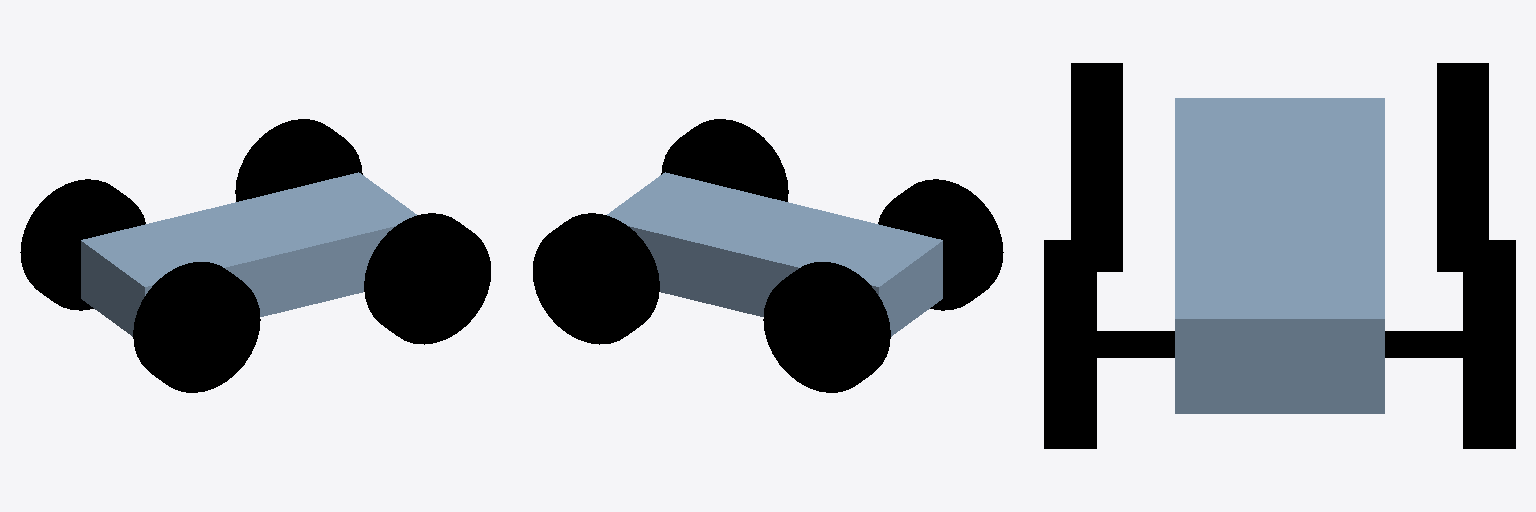
URDF robot description (simplecar):
<?xml version="1.0"?> 
<robot name="simplecar">
    <!-- Colors --> 
    <material name="black"> 
        <color rgba="0 0 0 1"/>
    </material>
    <material name="blue"> 
        <color rgba="0.6 0.7 0.8 1"/>
    </material>


    <!-- Base Frame of Car --> 
    <link name="base_link">
        <visual> 
            <geometry> 
                <box size="0.5 0.2 0.1"/>
            </geometry>
            <material name="blue"/>
        </visual>
        <inertial> 
            <mass value="6"/>
            <inertia ixx="0.2" ixy="0" ixz="0" iyy="0.2" iyz="0.0" izz="0.2"/>
        </inertial> 
    </link> 


    <!-- Left Front Wheel -->
    <link name="left_front_wheel">
        <visual> 
            <geometry> 
                <cylinder length="0.05" radius="0.1"/>
            </geometry>
            <origin rpy="1.57075 1.57075 0"/>
            <material name="black"/>
        </visual>
        <collision> 
             <geometry> 
                <cylinder length="0.05" radius="0.1"/>
            </geometry>
            <origin rpy="1.57075 1.57075 0"/>
        </collision> 
        <inertial> 
            <origin rpy="1.57075 1.57075 0"/>
            <mass value="0.3"/>
            <inertia ixx="0.4" ixy="0" ixz="0" iyy="0.4" iyz="0.0" izz="0.2"/>
        </inertial> 
    </link> 
    <joint name="left_hinge_to_left_front_wheel" type="continuous">
        <parent link="left_hinge"/>
        <child link="left_front_wheel"/> 
        <axis xyz="0 1 0"/>
        <origin xyz="0 0.2 0"/>
    </joint>
    <!-- Left Front Wheel - Hinge -->
    <link name="left_hinge">
        <visual> 
            <geometry> 
                <box size="0.20 0.02 0.02"/>
            </geometry>
            <origin xyz="0 0.1 0 " rpy="0 0 1.57075"/>
            <material name="black"/>
        </visual>
        <inertial> 
            <origin rpy="0 0 1.57075"/>
            <mass value="0.01"/>
            <inertia ixx="5E-6" ixy="0" ixz="0" iyy="5E-6" iyz="0" izz="5E-6"/>
        </inertial> 
    </link> 
    <joint name="base_to_left_hinge" type="revolute">
        <parent link="base_link"/>
        <child link="left_hinge"/> 
        <axis xyz="0 0 1"/>
        <origin xyz="0.2 0.0 0"/>
        <limit effort="100" lower="-0.5" upper="0.5" velocity="100"/>
    </joint>
    <!-- Right Front Wheel -->
    <link name="right_front_wheel">
        <visual> 
            <geometry> 
                <cylinder length="0.05" radius="0.1"/>
            </geometry>
            <origin rpy="-1.57075 -1.57075 0"/>
            <material name="black"/>
        </visual>
        <collision> 
             <geometry> 
                <cylinder length="0.05" radius="0.1"/>
            </geometry>
            <origin rpy="-1.57075 -1.57075 0"/>
        </collision> 
        <inertial> 
            <origin rpy="-1.57075 -1.57075 0"/>
            <mass value="0.3"/>
            <inertia ixx="0.4" ixy="0" ixz="0" iyy="0.4" iyz="0.0" izz="0.2"/>
        </inertial> 
    </link> 
    <joint name="right_hinge_to_right_front_wheel" type="continuous">
        <parent link="right_hinge"/>
        <child link="right_front_wheel"/> 
        <axis xyz="0 1 0"/>
        <origin xyz="0 -0.2 0"/>
    </joint>
    <!-- Right Front Wheel - Hinge -->
    <link name="right_hinge">
        <visual> 
            <geometry> 
                <box size="0.20 0.02 0.02"/>
            </geometry>
            <origin xyz="0 -0.1 0 " rpy="0 0 -1.57075"/>
            <material name="black"/>
        </visual>
        <inertial> 
            <origin rpy="0 0 -1.57075"/>
            <mass value="0.01"/>
            <inertia ixx="5E-6" ixy="0" ixz="0" iyy="5E-6" iyz="0" izz="5E-6"/>
        </inertial> 
    </link> 
    <joint name="base_to_right_hinge" type="revolute">
        <parent link="base_link"/>
        <child link="right_hinge"/> 
        <axis xyz="0 0 1"/>
        <origin xyz="0.2 0 0"/>
        <limit effort="100" lower="-0.5" upper="0.5" velocity="100"/>
    </joint>
    <!-- Left Back Wheel -->
    <link name="left_back_wheel">
        <visual> 
            <geometry> 
                <cylinder length="0.05" radius="0.1"/>
            </geometry>
            <origin rpy="1.57075 1.57075 0"/>
            <material name="black"/>
        </visual>
        <collision> 
             <geometry> 
                <cylinder length="0.05" radius="0.1"/>
            </geometry>
            <origin rpy="1.57075 1.57075 0"/>
        </collision> 
        <inertial> 
            <origin rpy="1.57075 1.57075 0"/>
            <mass value="0.3"/>
            <inertia ixx="0.4" ixy="0" ixz="0" iyy="0.4" iyz="0.0" izz="0.2"/>
        </inertial> 
    </link> 
    <joint name="base_to_left_back_wheel" type="continuous">
        <parent link="base_link"/>
        <child link="left_back_wheel"/> 
        <axis xyz="0 1 0"/>
        <origin xyz="-0.2 0.175 0"/>
    </joint>
    <!-- Right Back Wheel -->
    <link name="right_back_wheel">
        <visual> 
            <geometry> 
                <cylinder length="0.05" radius="0.1"/>
            </geometry>
            <origin rpy="-1.57075 -1.57075 0"/>
            <material name="black"/>
        </visual>
        <collision> 
             <geometry> 
                <cylinder length="0.05" radius="0.1"/>
            </geometry>
            <origin rpy="-1.57075 -1.57075 0"/>
        </collision> 
        <inertial> 
            <origin rpy="-1.57075 -1.57075 0"/>
            <mass value="0.3"/>
            <inertia ixx="0.4" ixy="0" ixz="0" iyy="0.4" iyz="0.0" izz="0.2"/>
        </inertial> 
    </link> 
    <joint name="base_to_right_back_wheel" type="continuous">
        <parent link="base_link"/>
        <child link="right_back_wheel"/> 
        <axis xyz="0 1 0"/>
        <origin xyz="-0.2 -0.175 0"/>
    </joint>
</robot>

--- Render facts (derived) ---
Views: 3 orthographic renders of the robot side by side, from view 1: azimuth 30°, elevation 25°; view 2: azimuth 150°, elevation 25°; view 3: azimuth 270°, elevation 25°.
Robot: simplecar — 7 links, 6 joints (2 revolute, 4 continuous); root link base_link; default pose: all joints at 0.
Links seen in each view (by area): view 1: base_link, right_back_wheel, right_front_wheel, left_back_wheel, left_front_wheel; view 2: base_link, left_back_wheel, left_front_wheel, right_back_wheel, right_front_wheel; view 3: base_link, left_front_wheel, right_front_wheel, left_back_wheel, right_back_wheel, left_hinge, right_hinge.
Boxes of the visible links, bbox=[...] form: base_link: bbox=[81, 172, 416, 336]; right_back_wheel: bbox=[133, 262, 260, 392]; right_front_wheel: bbox=[364, 213, 490, 344]; left_back_wheel: bbox=[20, 179, 145, 310]; left_front_wheel: bbox=[235, 119, 362, 201]; base_link: bbox=[607, 172, 942, 336]; left_back_wheel: bbox=[763, 262, 890, 392]; left_front_wheel: bbox=[533, 213, 659, 344]; right_back_wheel: bbox=[878, 179, 1003, 310]; right_front_wheel: bbox=[661, 119, 788, 201]; base_link: bbox=[1175, 98, 1384, 413]; left_front_wheel: bbox=[1463, 240, 1515, 448]; right_front_wheel: bbox=[1044, 240, 1096, 448]; left_back_wheel: bbox=[1437, 63, 1488, 271]; right_back_wheel: bbox=[1071, 63, 1122, 271]; left_hinge: bbox=[1385, 331, 1462, 357]; right_hinge: bbox=[1097, 331, 1174, 357].
Bounding box of the posed robot: 0.6 × 0.45 × 0.2 m (x, y, z).
Geometry: primitives only (box / cylinder / sphere), no mesh files.